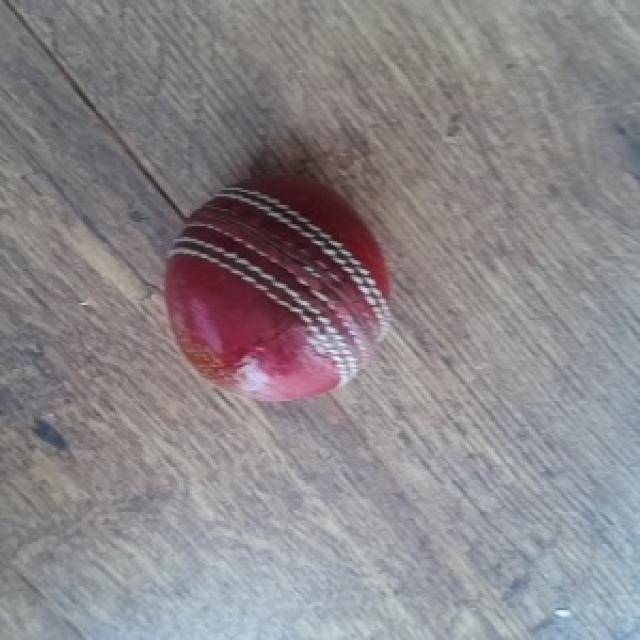ball: (162, 175, 395, 405)
